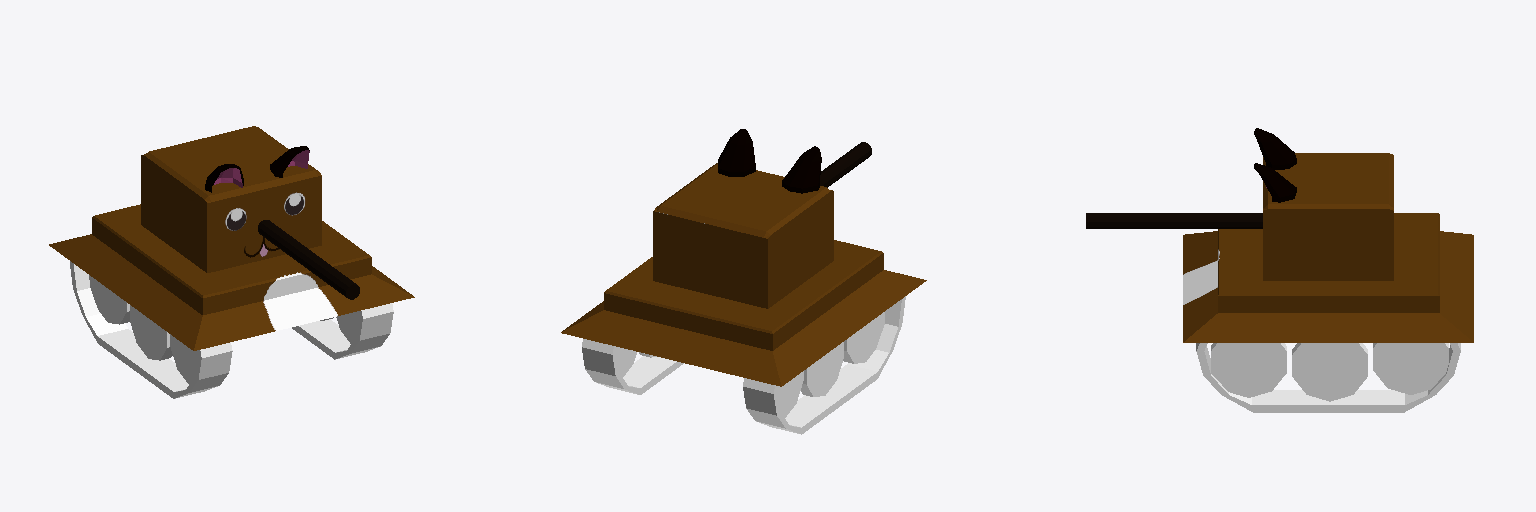
3 renders of one model, left to right at view 1: azimuth 30°, elevation 25°; view 2: azimuth 150°, elevation 25°; view 3: azimuth 270°, elevation 25°, orthographic.
Visible parts, largest first — view 1: tanquecito:pCube5; view 2: tanquecito:pCube5; view 3: tanquecito:pCube5.
Part boxes in pixels (left/top/right/bottom): tanquecito:pCube5: left=49, top=126, right=414, bottom=398; tanquecito:pCube5: left=561, top=129, right=926, bottom=434; tanquecito:pCube5: left=1086, top=128, right=1473, bottom=412.
Size of the model in its own units: 5.98 by 5.66 by 9.09.
Materials: 6 (1 with a texture image).